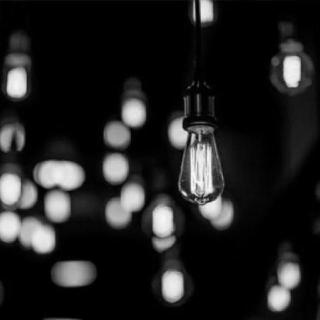other: (105, 101, 177, 244), (4, 154, 80, 258), (160, 266, 192, 306)
